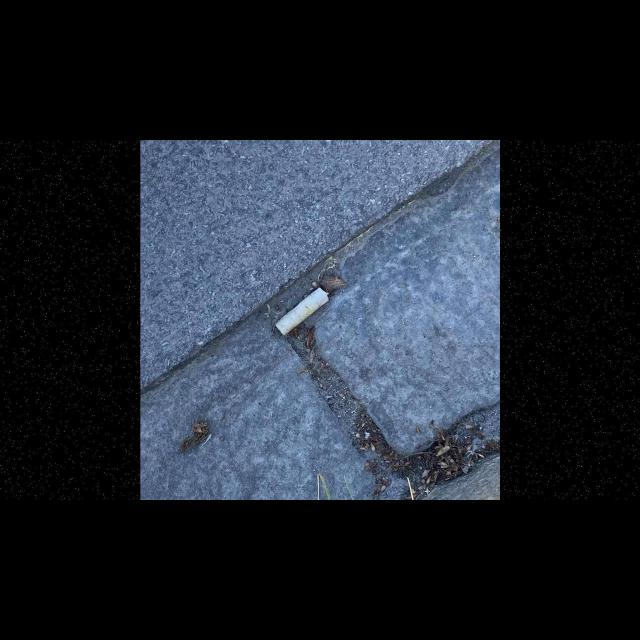cigarette: (274, 287, 329, 336)
